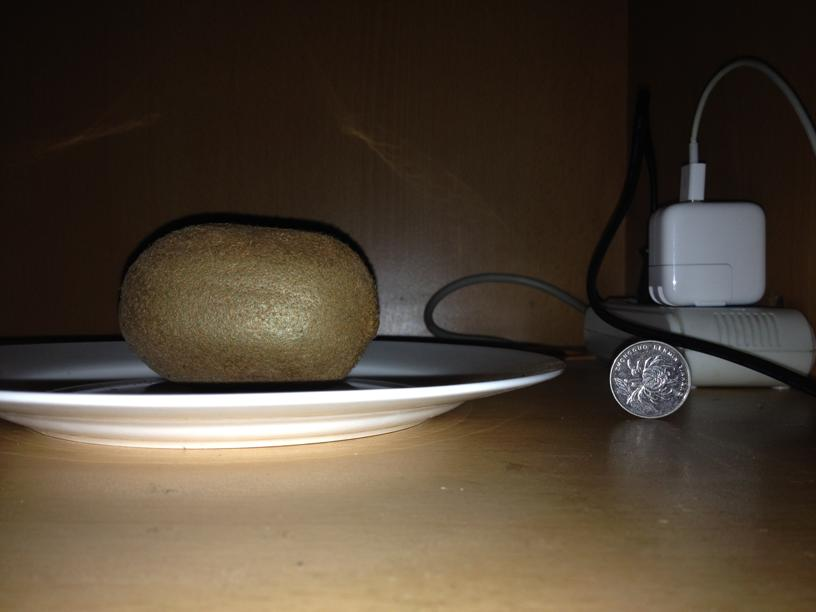coin: (604, 336, 692, 419)
qiwi: (116, 231, 378, 385)
